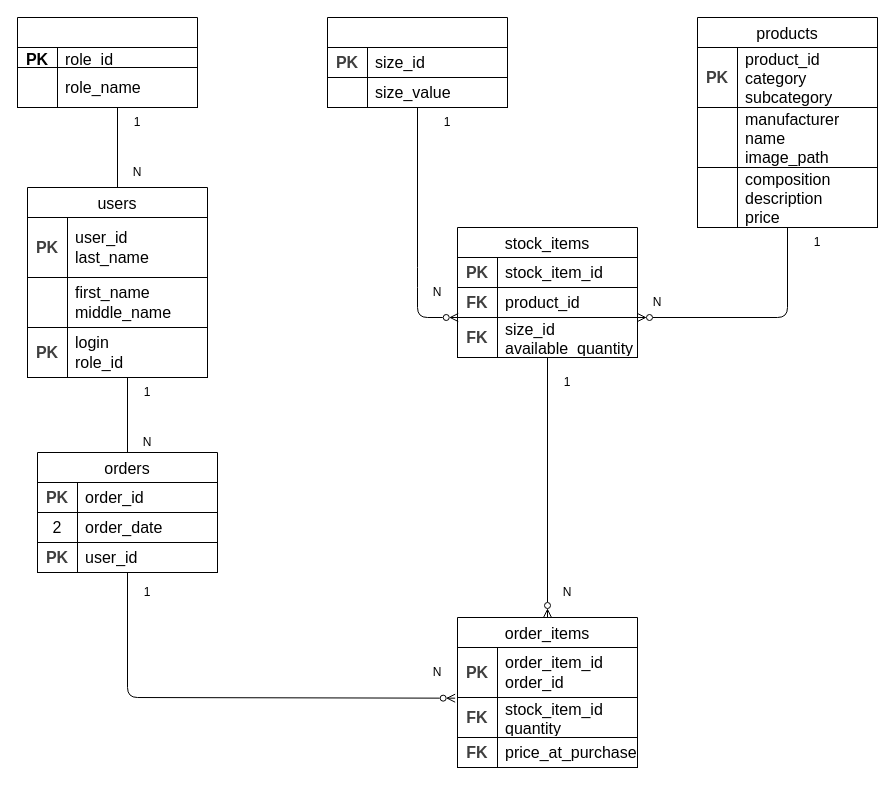
This 895x785 diagram has some shape labels left out. The shapes that lost their labels are listed below. From the top down, each one's box as (x1, y1, x2, y2) in pixels, then its label:
(16, 16, 198, 108): roles
(326, 16, 508, 108): sizes
